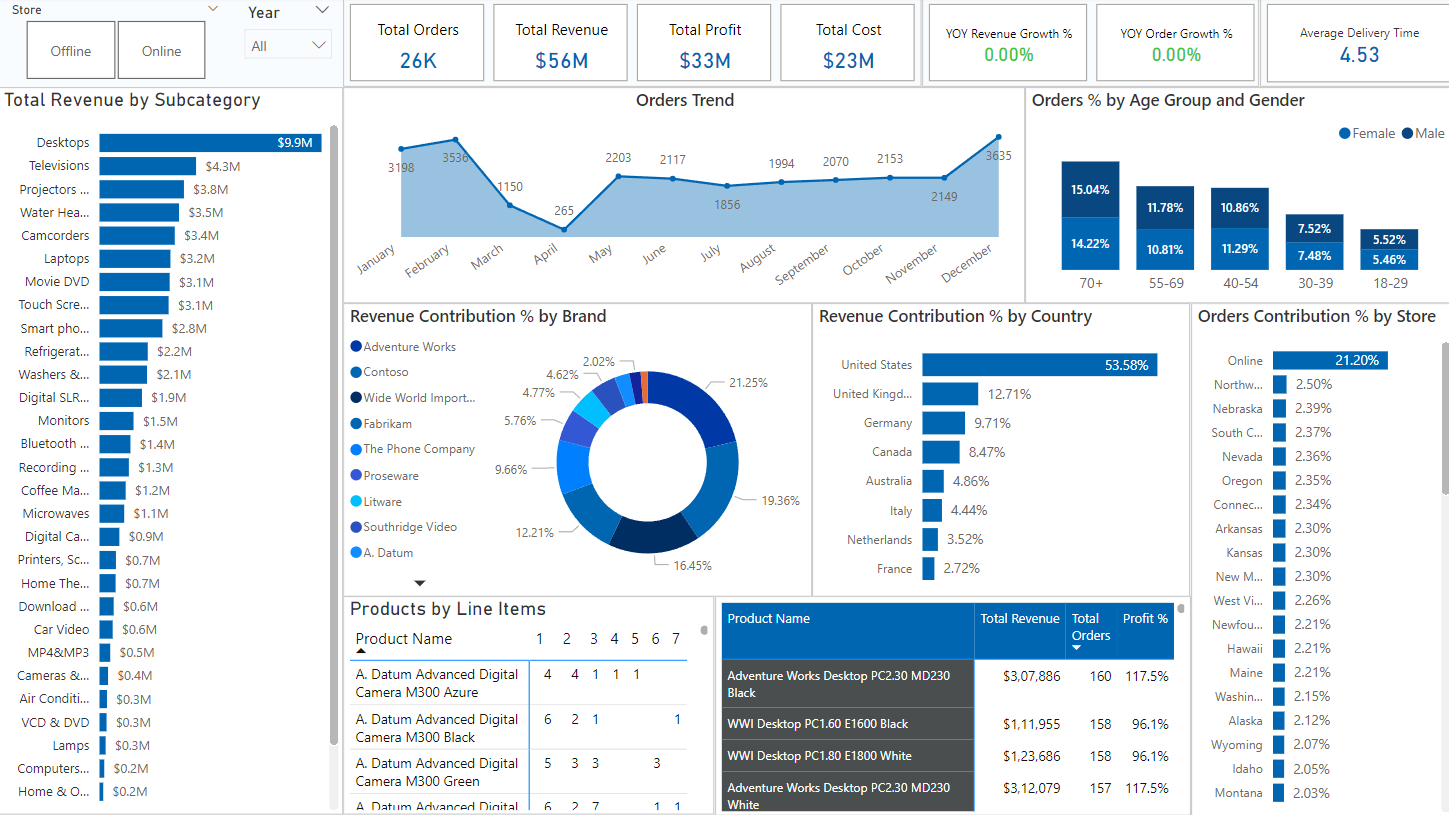

What the dashboard file says about the page in this screenshot:
{"tool":"powerbi","page":{"name":"Dashboard","canvas":[1280,720],"ordinal":0},"visuals":[{"type":"lineChart","title":"Orders Trend","fields":{"Category":["Sales.Order Date.Variation.Date Hierarchy.Month"],"Y":["All Measures.Total Orders"]},"box":[303.8,79,598.8,189.7],"z":0},{"type":"pivotTable","fields":{"Rows":["Products.Product Name"],"Values":["All Measures.Total Revenue","All Measures.Total Orders","All Measures.Profit %"]},"box":[630.4,525.8,417.6,193.3],"z":2000},{"type":"barChart","title":"Orders Contribution % by Store","fields":{"Category":["Stores.State"],"Y":["Divide(All Measures.Total Orders, ScopedEval(All Measures.Total Orders, []))"]},"box":[1048.4,268.7,231.8,451.3],"z":3000},{"type":"slicer","fields":{"Values":["Sales.Store"]},"box":[0,0,207.2,79],"z":4000},{"type":"slicer","fields":{"Values":["Sales.Order Date.Variation.Date Hierarchy.Year"]},"box":[207.2,0,97.5,79],"z":5000},{"type":"cardVisual","title":"Profit","fields":{"Data":["All Measures.Total Orders","All Measures.Total Revenue","All Measures.Total Profit"]},"box":[313.5,0,465.4,79],"z":6000},{"type":"donutChart","title":"Revenue Contribution % by Brand","fields":{"Category":["Products.Brand"],"Y":["All Measures.Total Revenue"]},"box":[304.4,268.4,411.4,257.8],"z":8000},{"type":"columnChart","title":"Orders % by Age Group and Gender","fields":{"Category":["Customers.Age Group"],"Y":["Divide(All Measures.Total Orders, ScopedEval(All Measures.Total Orders, []))"],"Series":["Customers.Gender"]},"box":[902.7,78.9,377.3,189.6],"z":9000},{"type":"cardVisual","title":"YOY Growth %","fields":{"Data":["All Measures.YOY Revenue Growth %","All Measures.YOY Order Growth %"]},"box":[778.8,0,330.1,79],"z":10000},{"type":"barChart","title":"Revenue Contribution % by Country","fields":{"Category":["Customers.Country"],"Y":["Divide(All Measures.Total Revenue, ScopedEval(All Measures.Total Revenue, []))"]},"box":[716,268.5,332,257.9],"z":11000},{"type":"pivotTable","title":"Products by Line Items","fields":{"Values":["All Measures.Total Orders"],"Columns":["Sales.Line Item"],"Rows":["Products.Product Name"]},"box":[304.1,525.8,326.3,192.4],"z":12000},{"type":"cardVisual","title":"Profit","fields":{"Data":["All Measures.Average Delivery Time"]},"box":[1109,0,171.2,79],"z":13000},{"type":"barChart","fields":{"Category":["Products.Subcategory"],"Y":["All Measures.Total Revenue"]},"box":[0,79,303.8,639.2],"z":13001}]}

Visuals, with their boxes in screenshot pixels (x1, y1, x2, y2), scaled from the page's 1280x720 canvas onto the 1449x815 screenshot:
"Orders Trend" lineChart: select_region(344, 89, 1022, 304)
pivotTable - Products.Product Name x All Measures.Total Revenue: select_region(714, 595, 1186, 814)
"Orders Contribution % by Store" barChart: select_region(1187, 304, 1448, 814)
slicer - Sales.Store: select_region(0, 0, 235, 89)
slicer - Sales.Order Date.Variation.Date Hierarchy.Year: select_region(235, 0, 345, 89)
"Profit" cardVisual: select_region(355, 0, 882, 89)
"Revenue Contribution % by Brand" donutChart: select_region(345, 304, 810, 596)
"Orders % by Age Group and Gender" columnChart: select_region(1022, 89, 1448, 304)
"YOY Growth %" cardVisual: select_region(882, 0, 1255, 89)
"Revenue Contribution % by Country" barChart: select_region(811, 304, 1186, 596)
"Products by Line Items" pivotTable: select_region(344, 595, 714, 813)
"Profit" cardVisual: select_region(1255, 0, 1448, 89)
barChart - Products.Subcategory x All Measures.Total Revenue: select_region(0, 89, 344, 813)
